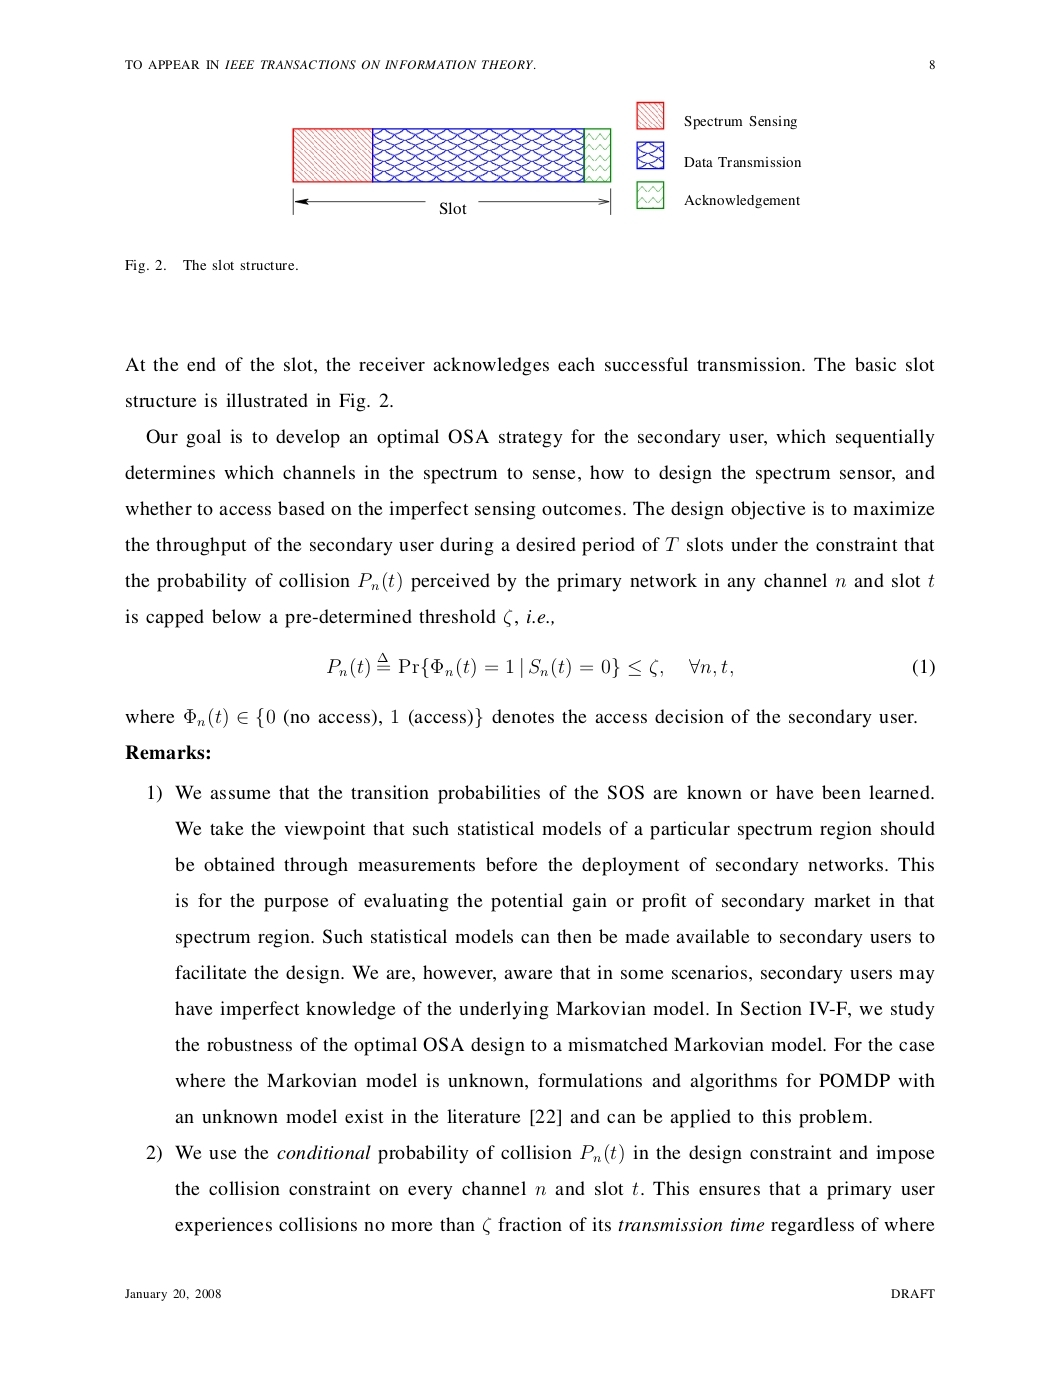figure: (291, 100, 801, 215)
formula: (327, 651, 934, 678)
